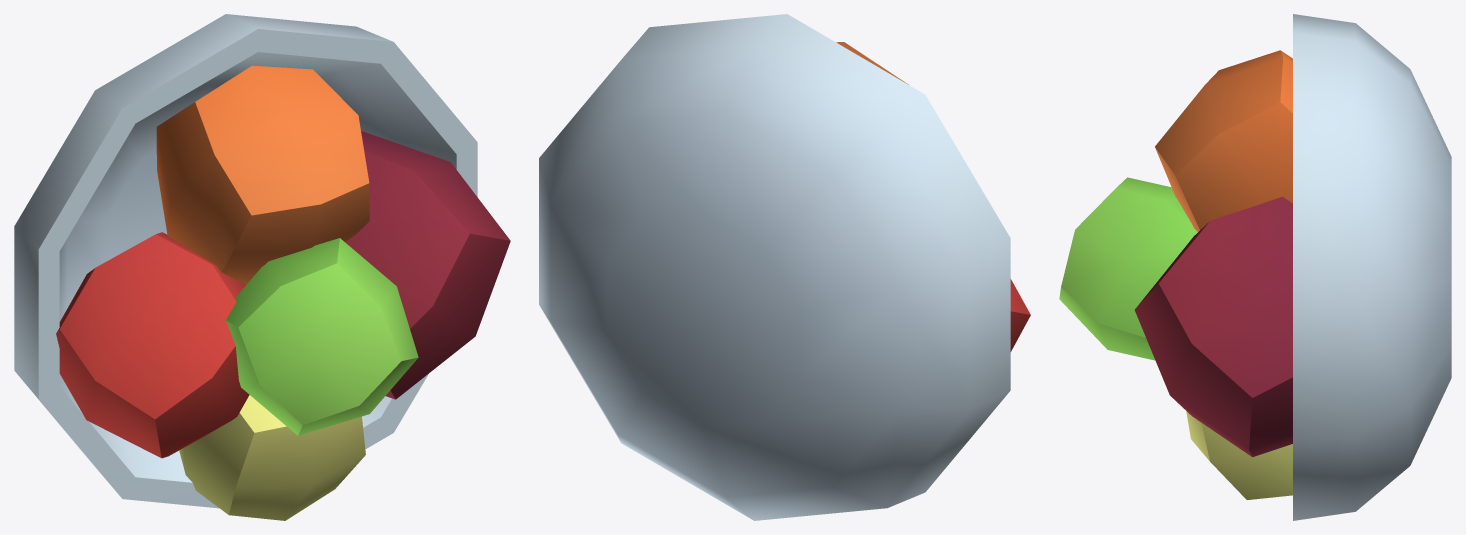
Rendered from FruitBowl.fbx.
3 renders of one model, left to right at view 1: azimuth 30°, elevation 25°; view 2: azimuth 150°, elevation 25°; view 3: azimuth 270°, elevation 25°, orthographic. The views are drawn at different scales.
Parts seen in each view (by area): view 1: FruitBowl; view 2: FruitBowl; view 3: FruitBowl.
Part boxes in pixels (x1,y1,x2,y2): FruitBowl: (14,14,510,520); FruitBowl: (539,14,1030,520); FruitBowl: (1059,14,1451,520).
Bounding box in the file's own units: 57.08 × 59.43 × 45.14.
